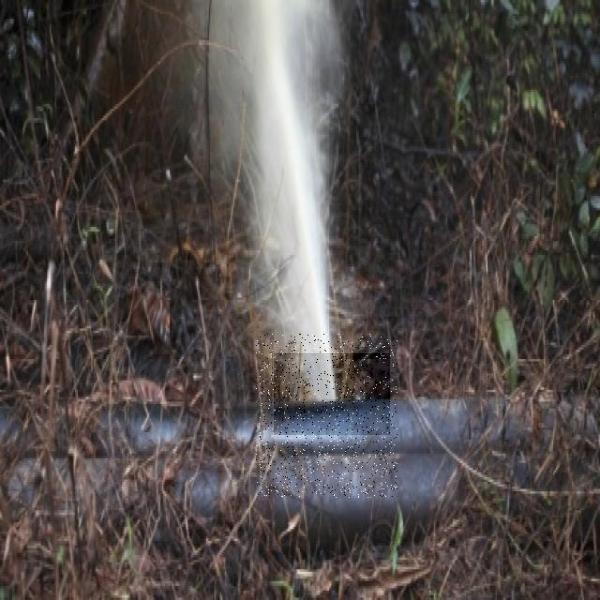water: (274, 353, 390, 435)
